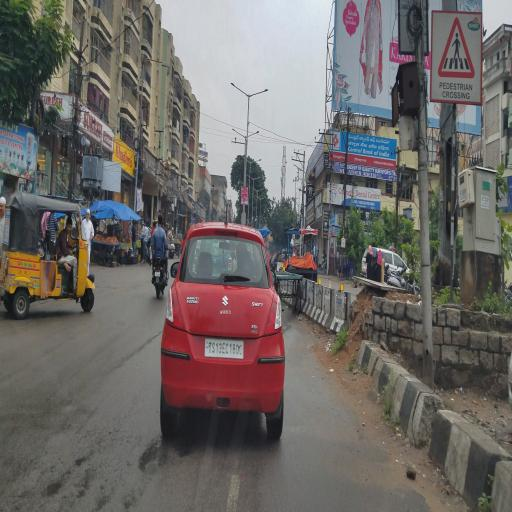street_light_0: (226, 71, 248, 107), (248, 79, 270, 104), (246, 126, 260, 144), (229, 124, 244, 140), (250, 154, 262, 172)
